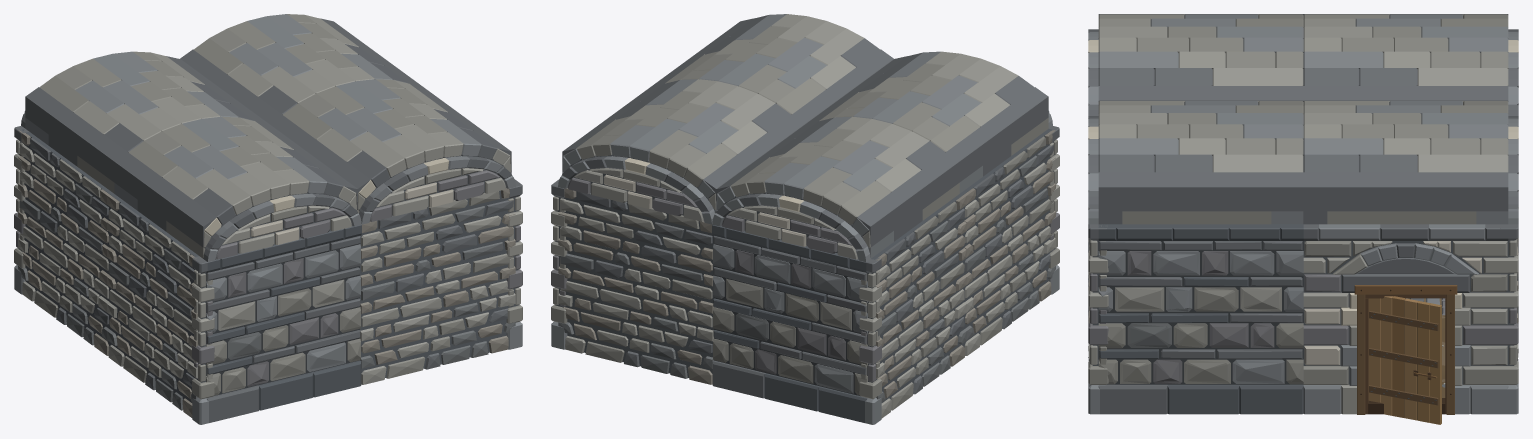
File: SM_LPD_Room_storecellar.fbx
The picture shows the model from 3 angles, left to right: view 1: azimuth 30°, elevation 25°; view 2: azimuth 150°, elevation 25°; view 3: azimuth 270°, elevation 25°; orthographic projection. The views are drawn at different scales.
Parts seen in each view (by area): view 1: SM_LPD_Struct_WallCoursed_01.003, SM_LPD_Struct_WallRubble_01.004, SM_LPD_Struct_CeilVault_01.001, SM_LPD_Struct_CeilVault_01.003, SM_LPD_Struct_CeilVault_01.002, SM_LPD_Struct_WallRubble_01.003, SM_LPD_Struct_WallRubble_01.002, SM_LPD_Struct_CeilVault_01.004, SM_LPD_Struct_Lunette_01.002, SM_LPD_Struct_Lunette_01.004, SM_LPD_Struct_CornerPostPlain_01.001, SM_LPD_Struct_CornerPostPlain_01.003 (+1 smaller); view 2: SM_LPD_Struct_WallCoursed_01.001, SM_LPD_Struct_WallRubble_01.001, SM_LPD_Struct_CeilVault_01.003, SM_LPD_Struct_CeilVault_01.001, SM_LPD_Struct_CeilVault_01.004, SM_LPD_Struct_WallRubble_01.002, SM_LPD_Struct_WallRubble_01.003, SM_LPD_Struct_CeilVault_01.002, SM_LPD_Struct_Lunette_01.001, SM_LPD_Struct_Lunette_01.003, SM_LPD_Struct_CornerPostPlain_01.002, SM_LPD_Struct_CornerPostPlain_01.004 (+1 smaller); view 3: SM_LPD_Struct_WallCoursed_01.002, SM_LPD_Struct_WallDoorway_01.001, SM_LPD_Struct_CeilVault_01.002, SM_LPD_Struct_CeilVault_01.004, SM_LPD_Struct_CeilVault_01.001, SM_LPD_Struct_CeilVault_01.003, SM_LPD_Door_DoorPlank_01.001, SM_LPD_Door_DoorFrameTimber_01.001, SM_LPD_Struct_CornerPostPlain_01.003, SM_LPD_Struct_CornerPostPlain_01.004, SM_LPD_Struct_Lunette_01.003, SM_LPD_Struct_Lunette_01.004 (+2 smaller).
Boxes of the visible parts, left/top/right/bottom form: SM_LPD_Struct_WallCoursed_01.003: left=206, top=225, right=361, bottom=422; SM_LPD_Struct_WallRubble_01.004: left=360, top=188, right=515, bottom=384; SM_LPD_Struct_CeilVault_01.001: left=114, top=116, right=357, bottom=258; SM_LPD_Struct_CeilVault_01.003: left=25, top=51, right=267, bottom=193; SM_LPD_Struct_CeilVault_01.002: left=269, top=79, right=511, bottom=213; SM_LPD_Struct_WallRubble_01.003: left=18, top=129, right=113, bottom=355; SM_LPD_Struct_WallRubble_01.002: left=107, top=194, right=198, bottom=417; SM_LPD_Struct_CeilVault_01.004: left=180, top=14, right=421, bottom=123; SM_LPD_Struct_Lunette_01.002: left=203, top=193, right=361, bottom=261; SM_LPD_Struct_Lunette_01.004: left=359, top=156, right=515, bottom=224; SM_LPD_Struct_CornerPostPlain_01.001: left=192, top=256, right=214, bottom=424; SM_LPD_Struct_CornerPostPlain_01.003: left=506, top=179, right=522, bottom=349; SM_LPD_Struct_WallCoursed_01.001: left=712, top=225, right=867, bottom=422; SM_LPD_Struct_WallRubble_01.001: left=558, top=188, right=713, bottom=384; SM_LPD_Struct_CeilVault_01.003: left=716, top=116, right=959, bottom=258; SM_LPD_Struct_CeilVault_01.001: left=806, top=51, right=1048, bottom=193; SM_LPD_Struct_CeilVault_01.004: left=562, top=79, right=804, bottom=213; SM_LPD_Struct_WallRubble_01.002: left=960, top=128, right=1055, bottom=355; SM_LPD_Struct_WallRubble_01.003: left=871, top=194, right=966, bottom=418; SM_LPD_Struct_CeilVault_01.002: left=652, top=14, right=893, bottom=123; SM_LPD_Struct_Lunette_01.001: left=712, top=193, right=870, bottom=261; SM_LPD_Struct_Lunette_01.003: left=558, top=156, right=714, bottom=224; SM_LPD_Struct_CornerPostPlain_01.002: left=859, top=257, right=881, bottom=424; SM_LPD_Struct_CornerPostPlain_01.004: left=551, top=179, right=567, bottom=349; SM_LPD_Struct_WallCoursed_01.002: left=1098, top=224, right=1303, bottom=414; SM_LPD_Struct_WallDoorway_01.001: left=1303, top=224, right=1508, bottom=414; SM_LPD_Struct_CeilVault_01.002: left=1098, top=100, right=1303, bottom=224; SM_LPD_Struct_CeilVault_01.004: left=1303, top=100, right=1508, bottom=224; SM_LPD_Struct_CeilVault_01.001: left=1098, top=14, right=1303, bottom=100; SM_LPD_Struct_CeilVault_01.003: left=1303, top=14, right=1508, bottom=100; SM_LPD_Door_DoorPlank_01.001: left=1368, top=296, right=1441, bottom=424; SM_LPD_Door_DoorFrameTimber_01.001: left=1354, top=285, right=1457, bottom=414; SM_LPD_Struct_CornerPostPlain_01.003: left=1088, top=224, right=1108, bottom=414; SM_LPD_Struct_CornerPostPlain_01.004: left=1499, top=224, right=1518, bottom=414; SM_LPD_Struct_Lunette_01.003: left=1508, top=116, right=1518, bottom=224; SM_LPD_Struct_Lunette_01.004: left=1088, top=116, right=1098, bottom=224.
Size of the model in its own units: 8.91 by 5.34 by 8.4.
